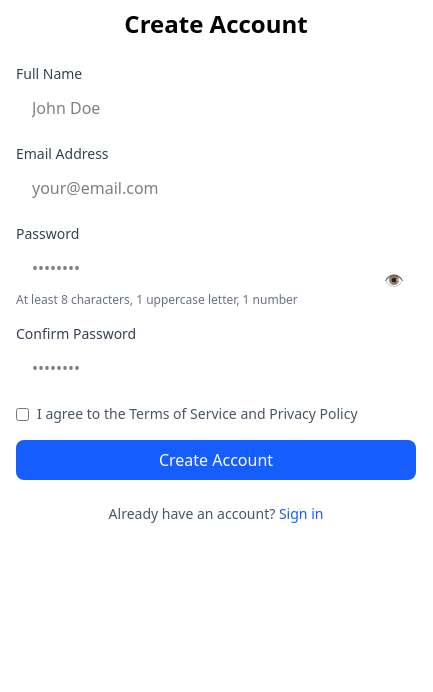
Test: SignupForm › Email Validation › shows error for invalid email format
Type "invalid-email" into the field labelled "Email Address" at (216, 188), box left=16, top=168, right=416, bottom=208
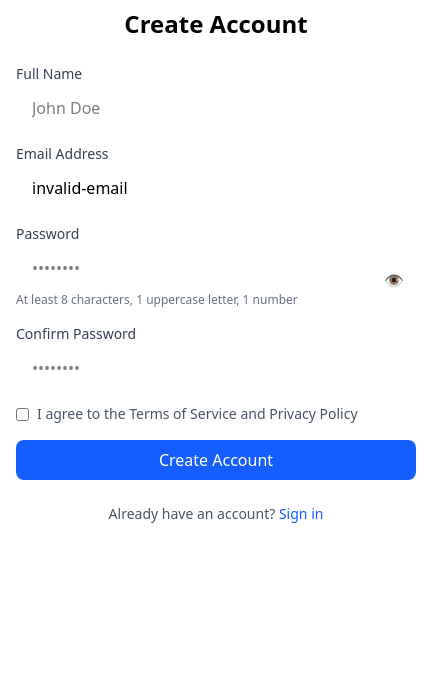
Click the button "Create Account" at (216, 460), box left=16, top=440, right=416, bottom=480
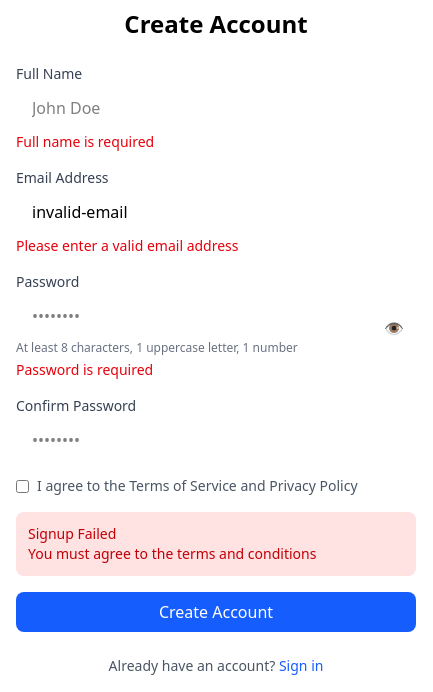
expect the text "Please enter a valid email address" is shown: met, box left=16, top=236, right=238, bottom=255
